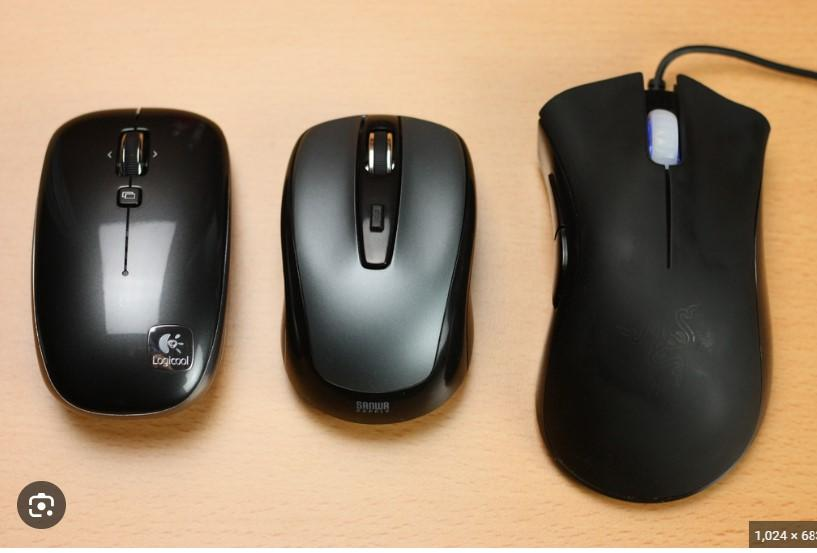computer mouse: (534, 73, 774, 507), (277, 115, 478, 429), (31, 107, 233, 419)
